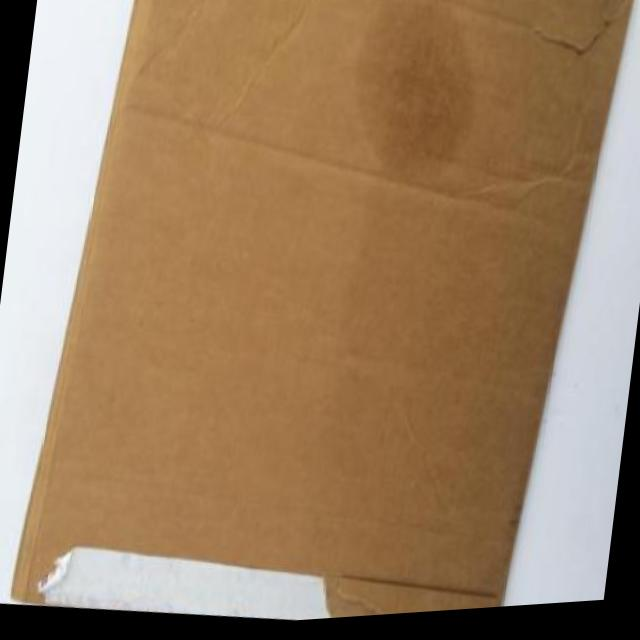box: (3, 0, 640, 640)
